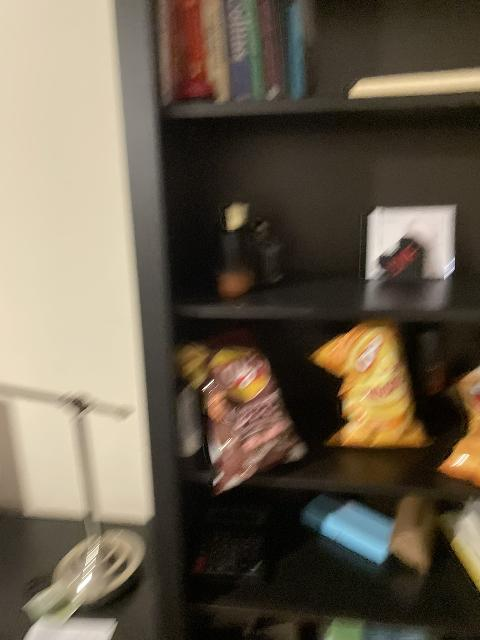Chio Cascaval 125g: (432, 364, 479, 493)
Chio Hula Hoops Cheese 70g: (311, 321, 432, 450)
Lays Beef Grilled Ribs 125g: (182, 338, 311, 494)
